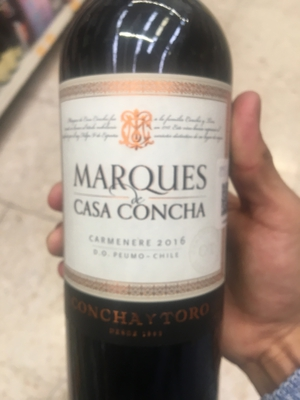marques de casa concha carmenere: (45, 14, 232, 385)
